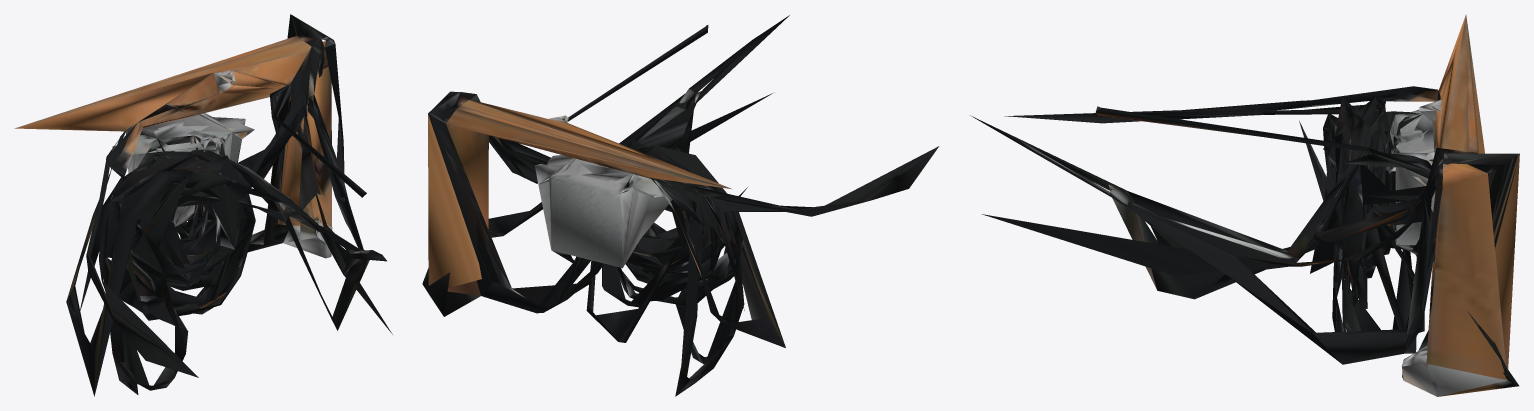
File: fv_wires.lod1.glb
The picture shows the model from 3 angles, left to right: view 1: azimuth 30°, elevation 25°; view 2: azimuth 150°, elevation 25°; view 3: azimuth 270°, elevation 25°; orthographic projection. The views are drawn at different scales.
Visible parts, largest first — view 1: fv_wires; view 2: fv_wires; view 3: fv_wires.
Part boxes in pixels (<box>): fv_wires: <box>14,14,392,396</box>; fv_wires: <box>422,15,939,396</box>; fv_wires: <box>970,14,1519,396</box>.
Size of the model in its own units: 2.34 by 1.85 by 2.88.
Materials: 1 (1 with a texture image).
